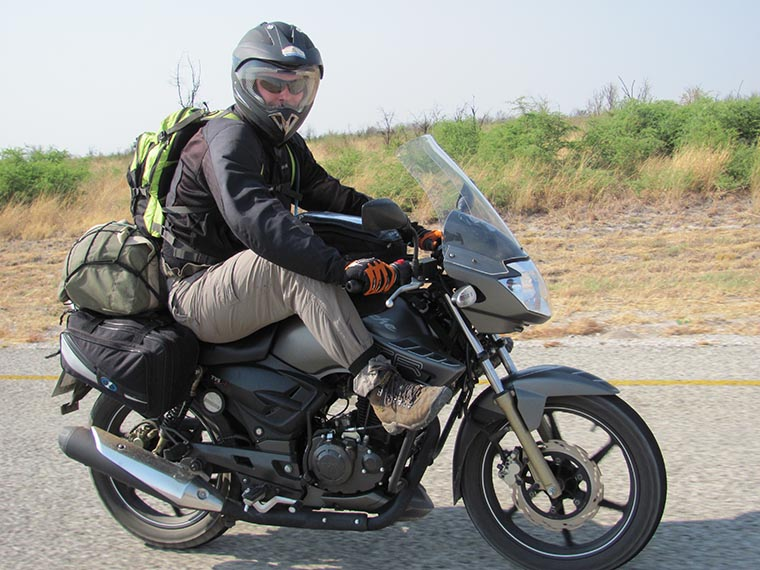helmet: (233, 25, 325, 138)
